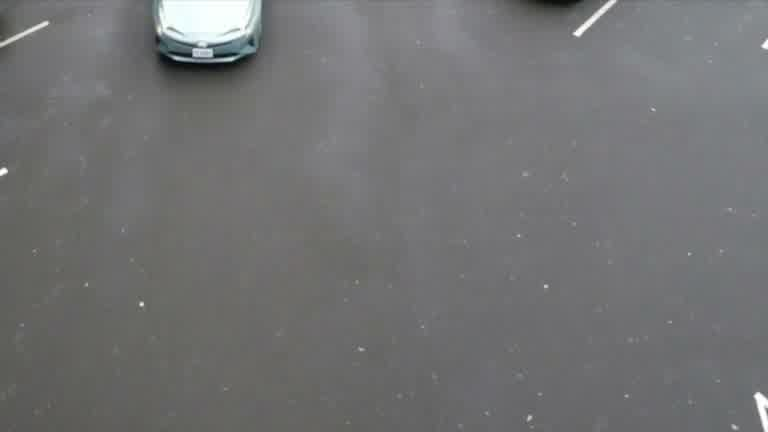car: (95, 0, 323, 110)
